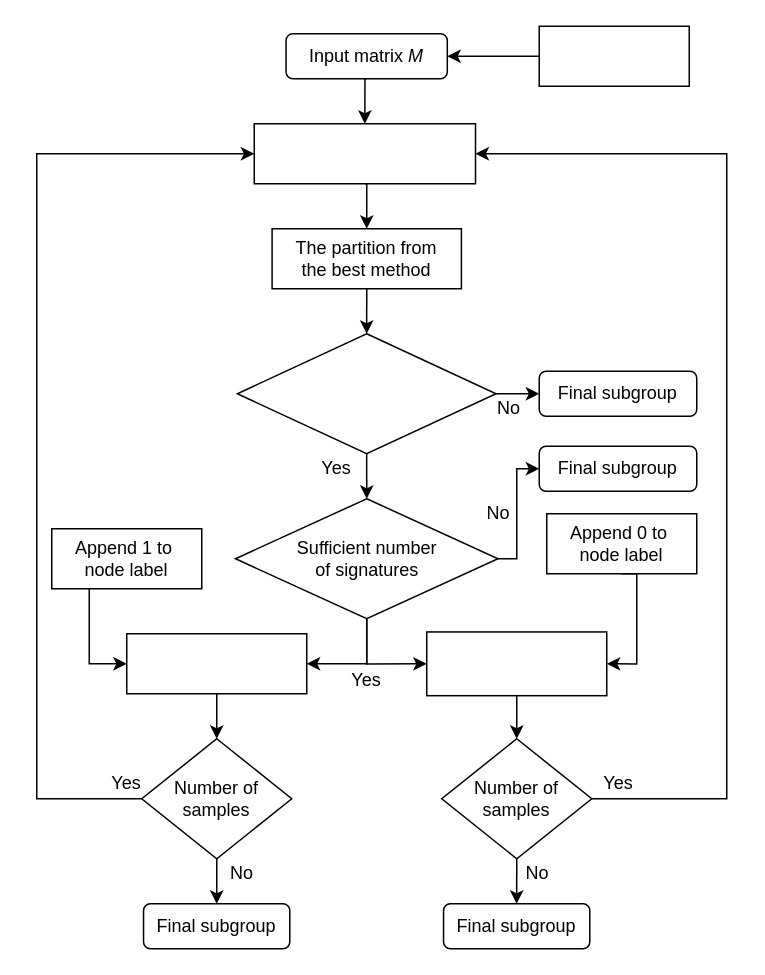
Image size: 765x975. Some labels were removed from this diagram. Here are the shapes that lost their labels. From the top down, the centre of each, then its label:
At point (613, 55): "Assign 0 as node label".
At point (364, 153): "Consensus partitioning with multiple methods".
At point (366, 393): "A stable partitioning".
At point (216, 663): "Submatix M 1 with group label 1".
At point (516, 663): "Submatix M 0 with other group labels".
